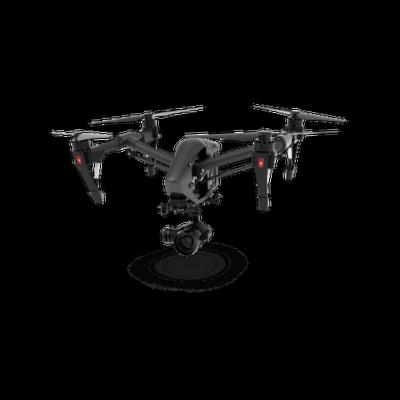drone: (51, 94, 350, 233)
